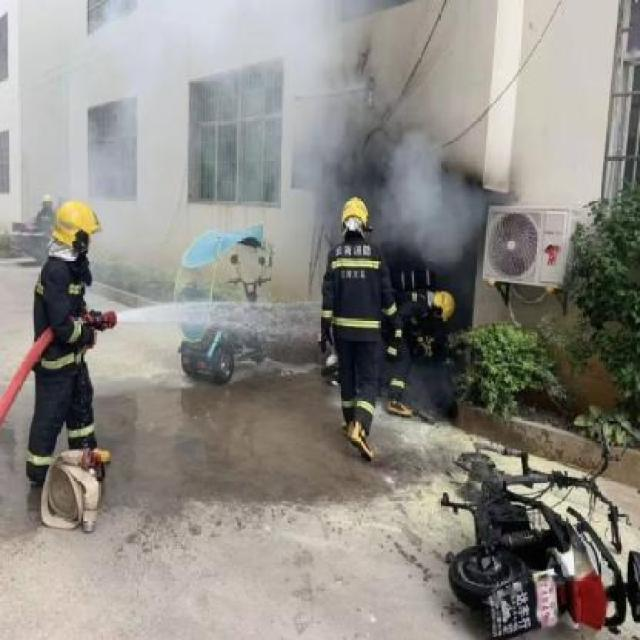Smoke: (275, 0, 374, 205), (390, 136, 481, 262)
